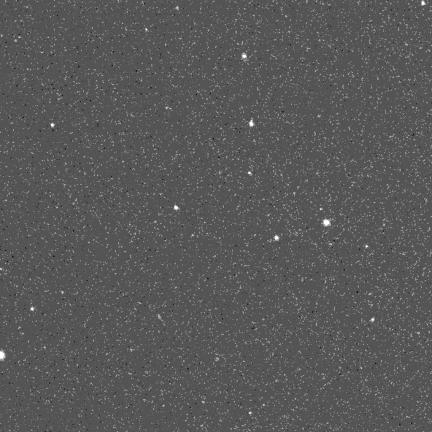blob: (323, 219, 330, 226), (0, 351, 5, 360), (274, 235, 280, 241), (249, 120, 254, 126), (242, 53, 247, 59), (421, 0, 426, 5), (51, 123, 55, 128), (370, 318, 375, 322), (176, 6, 180, 11), (31, 307, 35, 311), (365, 245, 369, 249), (174, 206, 178, 210), (249, 411, 253, 415), (248, 171, 251, 175), (320, 208, 324, 211)
